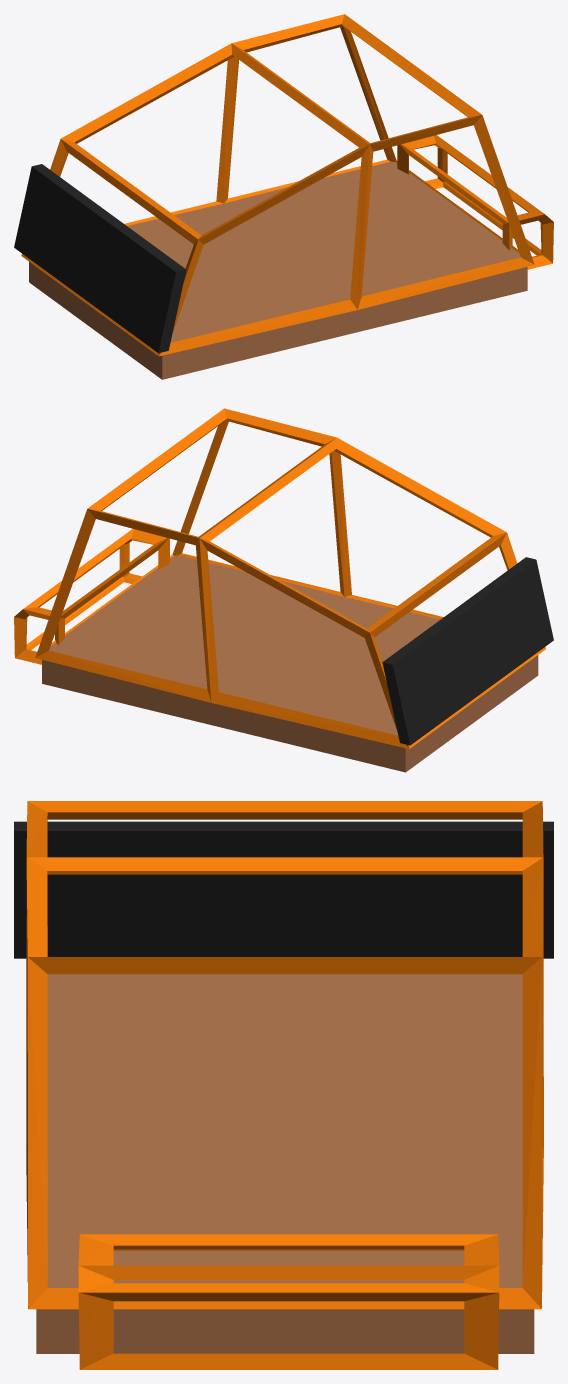
File: ash_rover.dae
3 renders of one model, top to bottom at view 1: azimuth 30°, elevation 25°; view 2: azimuth 150°, elevation 25°; view 3: azimuth 270°, elevation 25°, orthographic. The views are drawn at different scales.
Parts seen in each view (by area): view 1: Cube.001; view 2: Cube.001; view 3: Cube.001.
Boxes of the visible parts, bbox=[...] form: Cube.001: bbox=[14, 14, 553, 379]; Cube.001: bbox=[14, 408, 553, 772]; Cube.001: bbox=[14, 801, 553, 1369].
Size of the model in its own units: 1.37 by 0.83 by 0.6.
